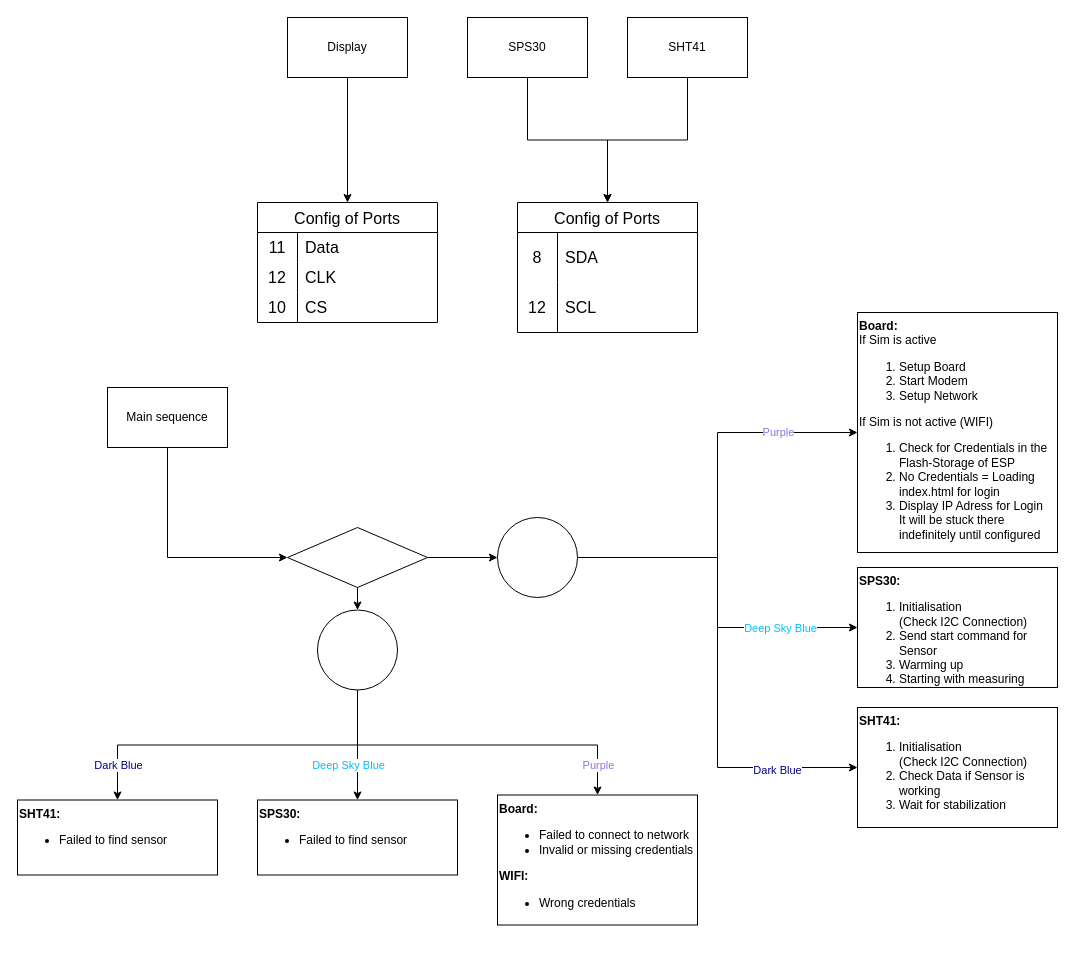
This 1075x953 diagram has some shape labels left out. The shapes that lost their labels are listed below. From the top down, each one's centre as x and y in pixels, then its label:
At point (357, 557): "Setup/Initialisation".
At point (537, 557): "Breathing".
At point (357, 649): "Blinking".
